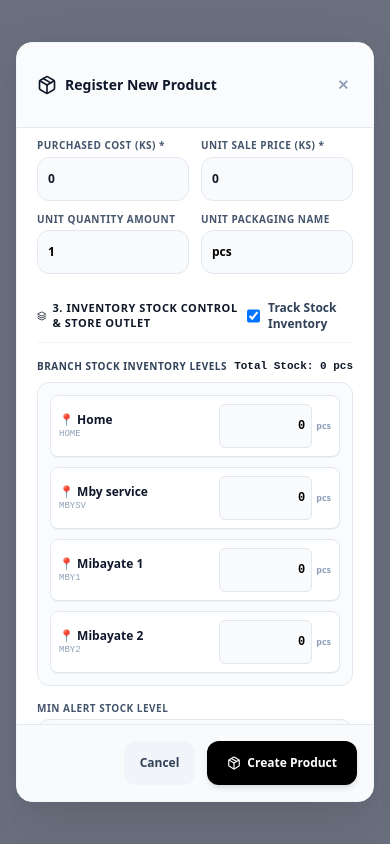
ProductModal Branch Stock Inventory Levels › allows deleting zeroes from branch stock inputs and typing numbers without leading zero
(page scrolled)
Expected: the text "Total Stock: 0 pcs" is shown, [234,359,353,374]
# User selects / focuses: onFocus select is wired
Clear the 4th number field at (266, 426), box [219,404,312,448]
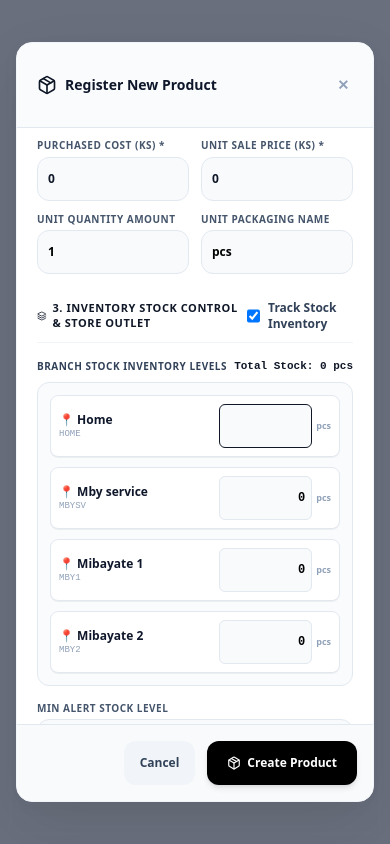
# User types 20
Type "20" into the 4th number field.
click(266, 426); type("20")  # box [219,404,312,448]
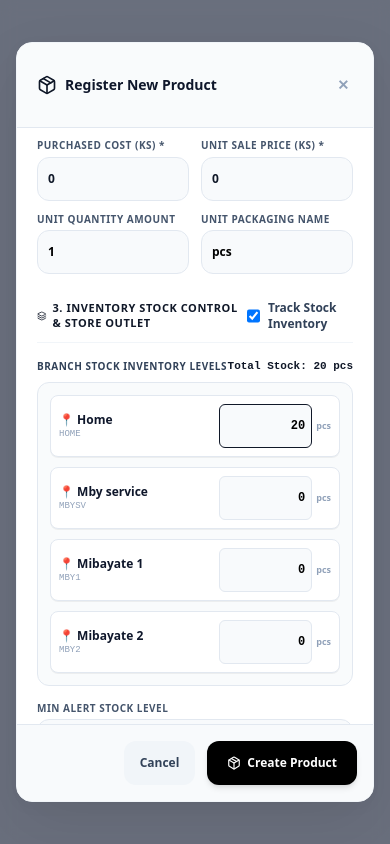
Expected: the text "Total Stock: 20 pcs" is shown, [228,359,353,374]
Clear the number field next to "Mby service" at (266, 498), box [219,476,312,520]
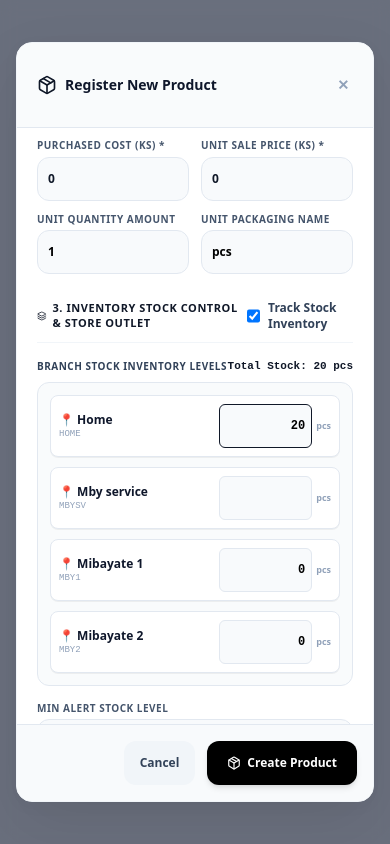
Leave the number field next to "Mby service", box [219,476,312,520]
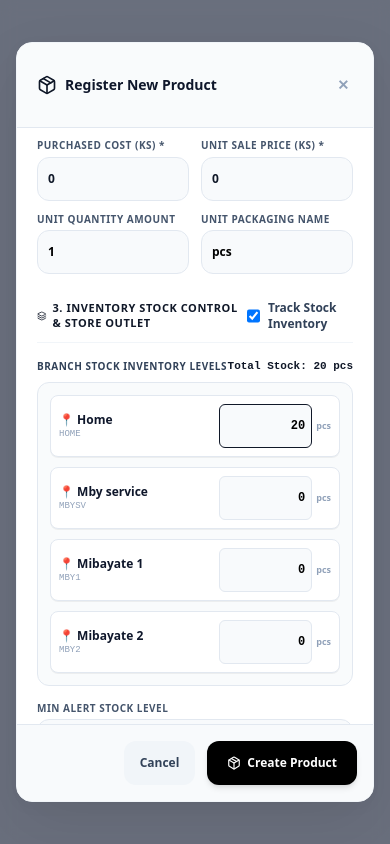
Expected: the number field next to "Mby service" holds "0", [219,476,312,520]
